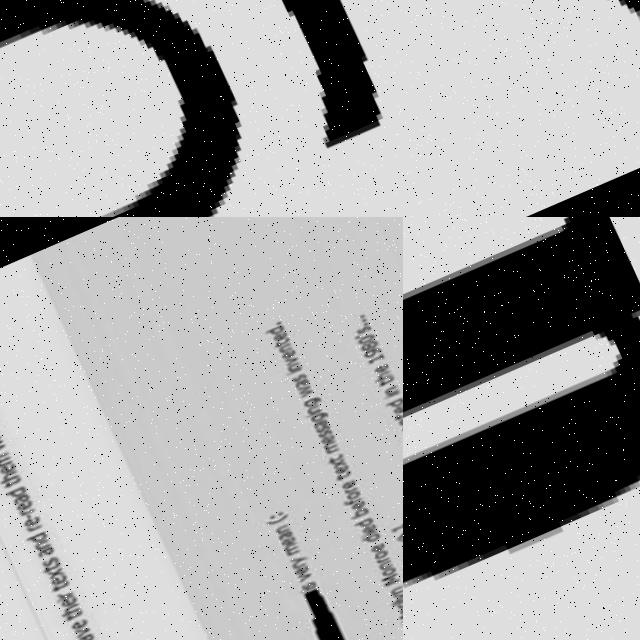4: (358, 336, 379, 352)
5: (360, 343, 382, 358)
D: (403, 217, 640, 640)
G: (0, 0, 403, 217)
L: (403, 0, 640, 193)
